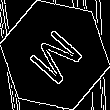M_SE: (22, 21, 88, 89)
